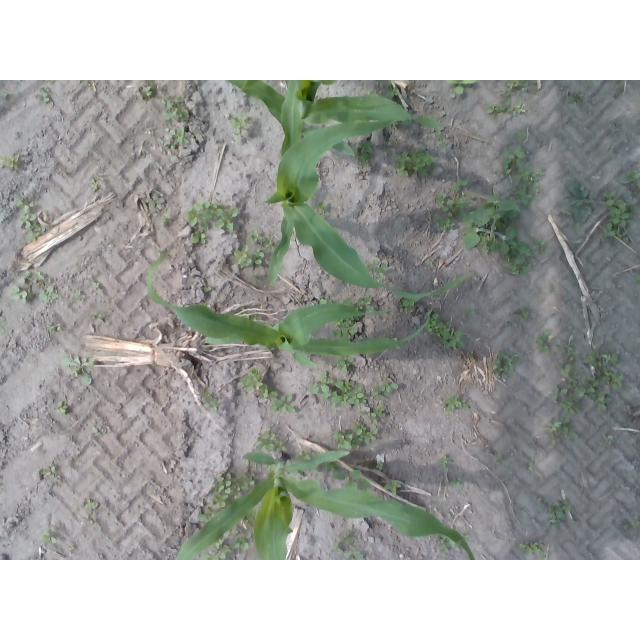Maize: (263, 80, 469, 302), (171, 441, 475, 560), (144, 250, 432, 369), (224, 81, 449, 160)
Weeds: (461, 192, 536, 276), (581, 349, 624, 412), (601, 190, 640, 245), (560, 177, 596, 231), (434, 178, 475, 223), (185, 201, 239, 232), (423, 313, 465, 350), (395, 147, 437, 181), (14, 199, 47, 242), (211, 472, 241, 508), (516, 168, 545, 205), (330, 380, 368, 407), (62, 355, 95, 385), (332, 469, 373, 492), (332, 315, 363, 343), (547, 418, 578, 445), (254, 428, 286, 453), (501, 143, 524, 177), (493, 349, 519, 379), (159, 96, 189, 121), (310, 371, 335, 400), (548, 500, 573, 529), (502, 80, 538, 100), (556, 363, 580, 390), (247, 228, 275, 251), (202, 540, 233, 560), (353, 422, 377, 447), (372, 379, 399, 401), (238, 368, 263, 391), (353, 140, 376, 165), (163, 129, 189, 151), (487, 101, 525, 116), (360, 405, 387, 426), (331, 430, 357, 451), (342, 296, 374, 313), (534, 329, 554, 356), (230, 115, 251, 140), (270, 394, 296, 414), (238, 461, 255, 490), (199, 389, 221, 411), (9, 285, 34, 304), (440, 535, 469, 551), (233, 245, 252, 269), (444, 393, 469, 411), (447, 81, 477, 96), (516, 540, 544, 555), (379, 80, 400, 100), (561, 392, 580, 414), (232, 532, 252, 552), (38, 286, 59, 305), (17, 270, 45, 284), (335, 355, 354, 374), (550, 385, 570, 403), (372, 258, 389, 279), (41, 527, 59, 546), (0, 154, 18, 171), (89, 173, 106, 191), (258, 384, 278, 399), (140, 84, 157, 101), (35, 87, 52, 104), (624, 168, 640, 186), (433, 217, 455, 230), (340, 528, 356, 545), (383, 481, 401, 496), (323, 459, 342, 473), (515, 307, 531, 323), (198, 509, 215, 524), (403, 298, 418, 315), (146, 194, 165, 207), (243, 508, 258, 524), (533, 238, 548, 254), (386, 337, 402, 352), (437, 455, 452, 470), (563, 344, 578, 359), (251, 248, 265, 264), (244, 309, 260, 323), (40, 466, 57, 479), (345, 548, 363, 560), (191, 230, 206, 244), (295, 448, 310, 461), (56, 401, 69, 416), (598, 434, 614, 446), (315, 200, 330, 212), (568, 92, 583, 104), (332, 542, 344, 554), (524, 460, 535, 472), (161, 212, 171, 225), (495, 453, 506, 464), (450, 477, 462, 487), (91, 314, 104, 323), (46, 325, 62, 332), (75, 291, 86, 301), (517, 130, 528, 140), (85, 500, 96, 509), (318, 299, 332, 306), (263, 463, 275, 471), (0, 88, 8, 100), (203, 286, 213, 295), (309, 466, 319, 475), (229, 526, 240, 534), (296, 470, 305, 479), (91, 426, 99, 435), (375, 462, 383, 471), (91, 281, 99, 290), (402, 119, 411, 127), (634, 273, 640, 285), (465, 309, 475, 316), (634, 521, 640, 532), (469, 350, 476, 358), (0, 326, 6, 335), (166, 254, 171, 259), (0, 317, 4, 322), (49, 81, 55, 84)
